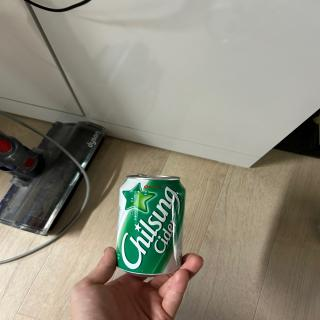cocacola: (113, 172, 187, 278)
